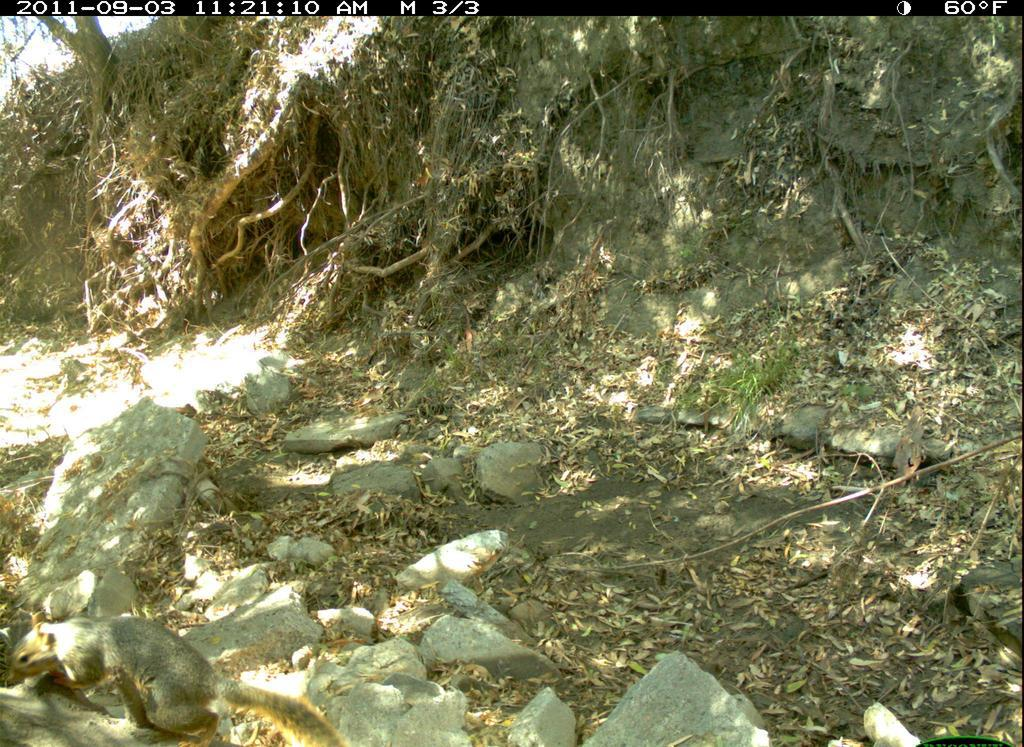squirrel: (8, 601, 364, 747)
